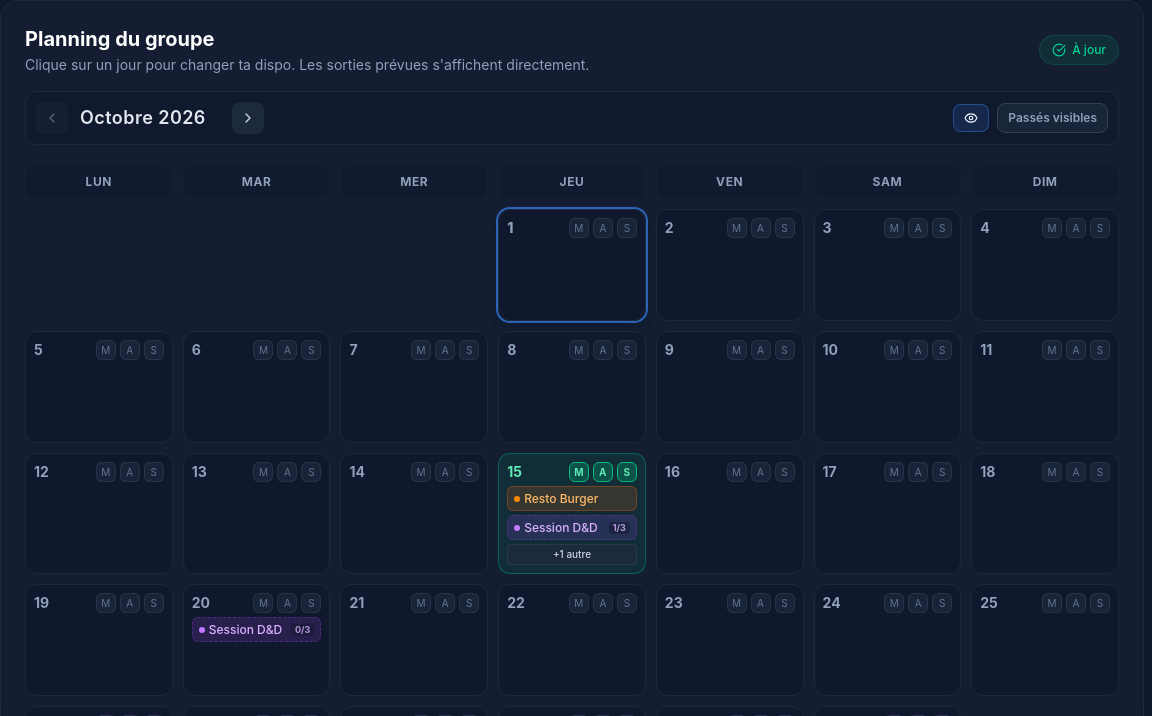
Test: GroupPlanningTab - Event Visualization › renders events on their target days and shows overflow button for >2 events
Expected: the text "Resto Burger" is shown, [524,491,598,506]
Expected: the text "Session D&D" is shown 2 times, [524,520,598,535]; [209,622,282,637]
// Cliquer sur le débordement ouvre la modale DayEventsModal
Click the button "+1 autre".
click(572, 554)  # box [507,544,637,565]
(page scrolled)
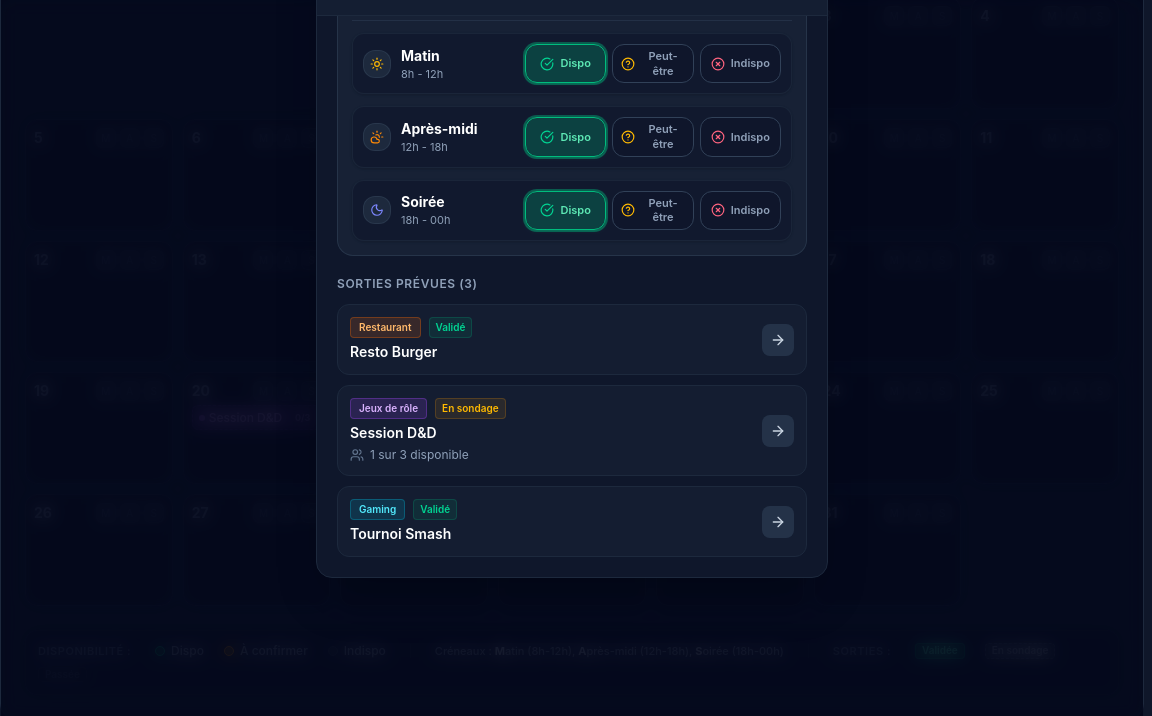
Expected: the heading "Tournoi Smash" is shown, [350,525,451,542]
